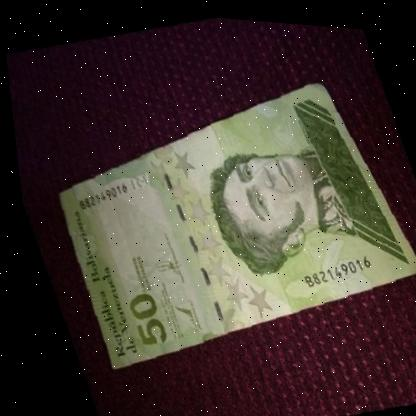fifty-front-vef: (23, 49, 416, 391)
